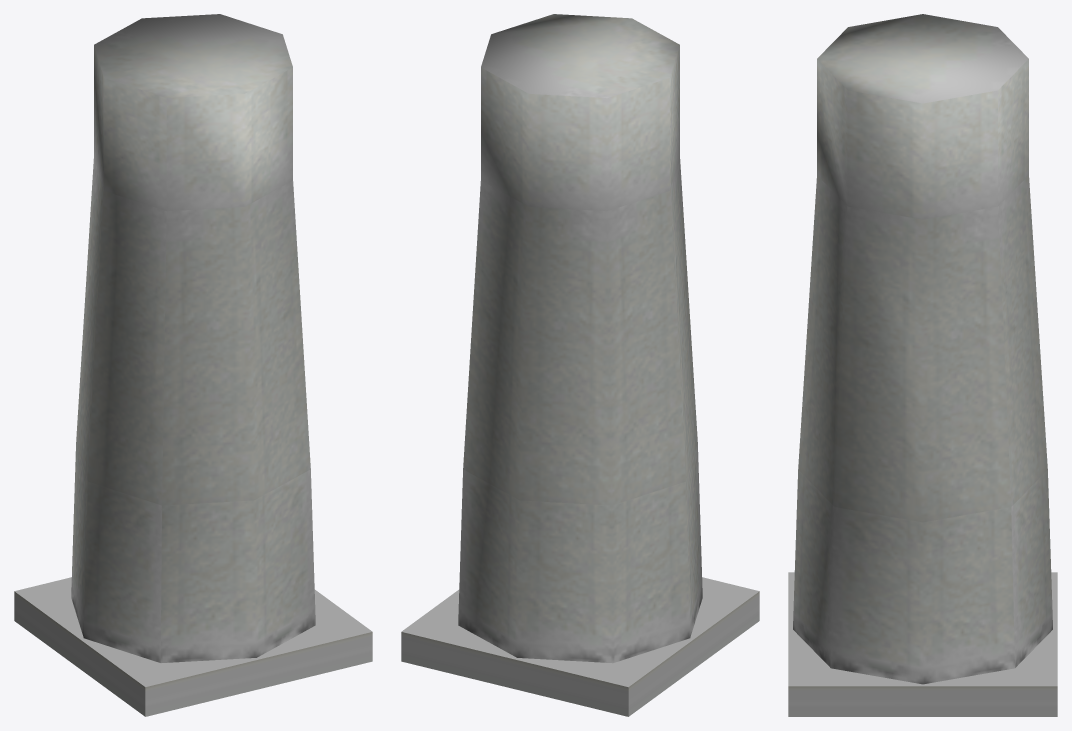
File: general_obj_bigtower10_lod_01.fbx
The picture shows the model from 3 angles, left to right: view 1: azimuth 30°, elevation 25°; view 2: azimuth 150°, elevation 25°; view 3: azimuth 270°, elevation 25°; orthographic projection. The views are drawn at different scales.
Parts seen in each view (by area): view 1: Sphere01; view 2: Sphere01; view 3: Sphere01.
Boxes of the visible parts, left/top/right/bottom form: Sphere01: left=14, top=14, right=372, bottom=716; Sphere01: left=401, top=14, right=759, bottom=716; Sphere01: left=788, top=14, right=1057, bottom=716.
Size of the model in its own units: 4 by 9.84 by 4.
